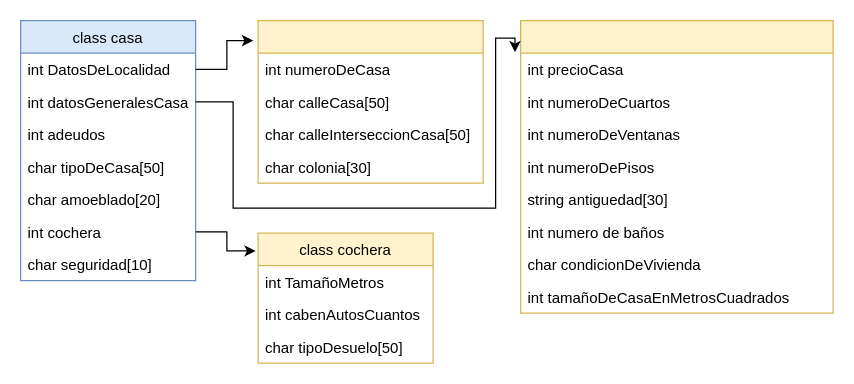
This 854x384 diagram has some shape labels left out. The shapes that lost their labels are listed below. From the top down, each one's box as (x1, y1, x2, y2) in pixels, then its label:
(257, 19, 483, 183): class datosDeLocalidad
(519, 19, 833, 313): class datosGeneralesCasa
